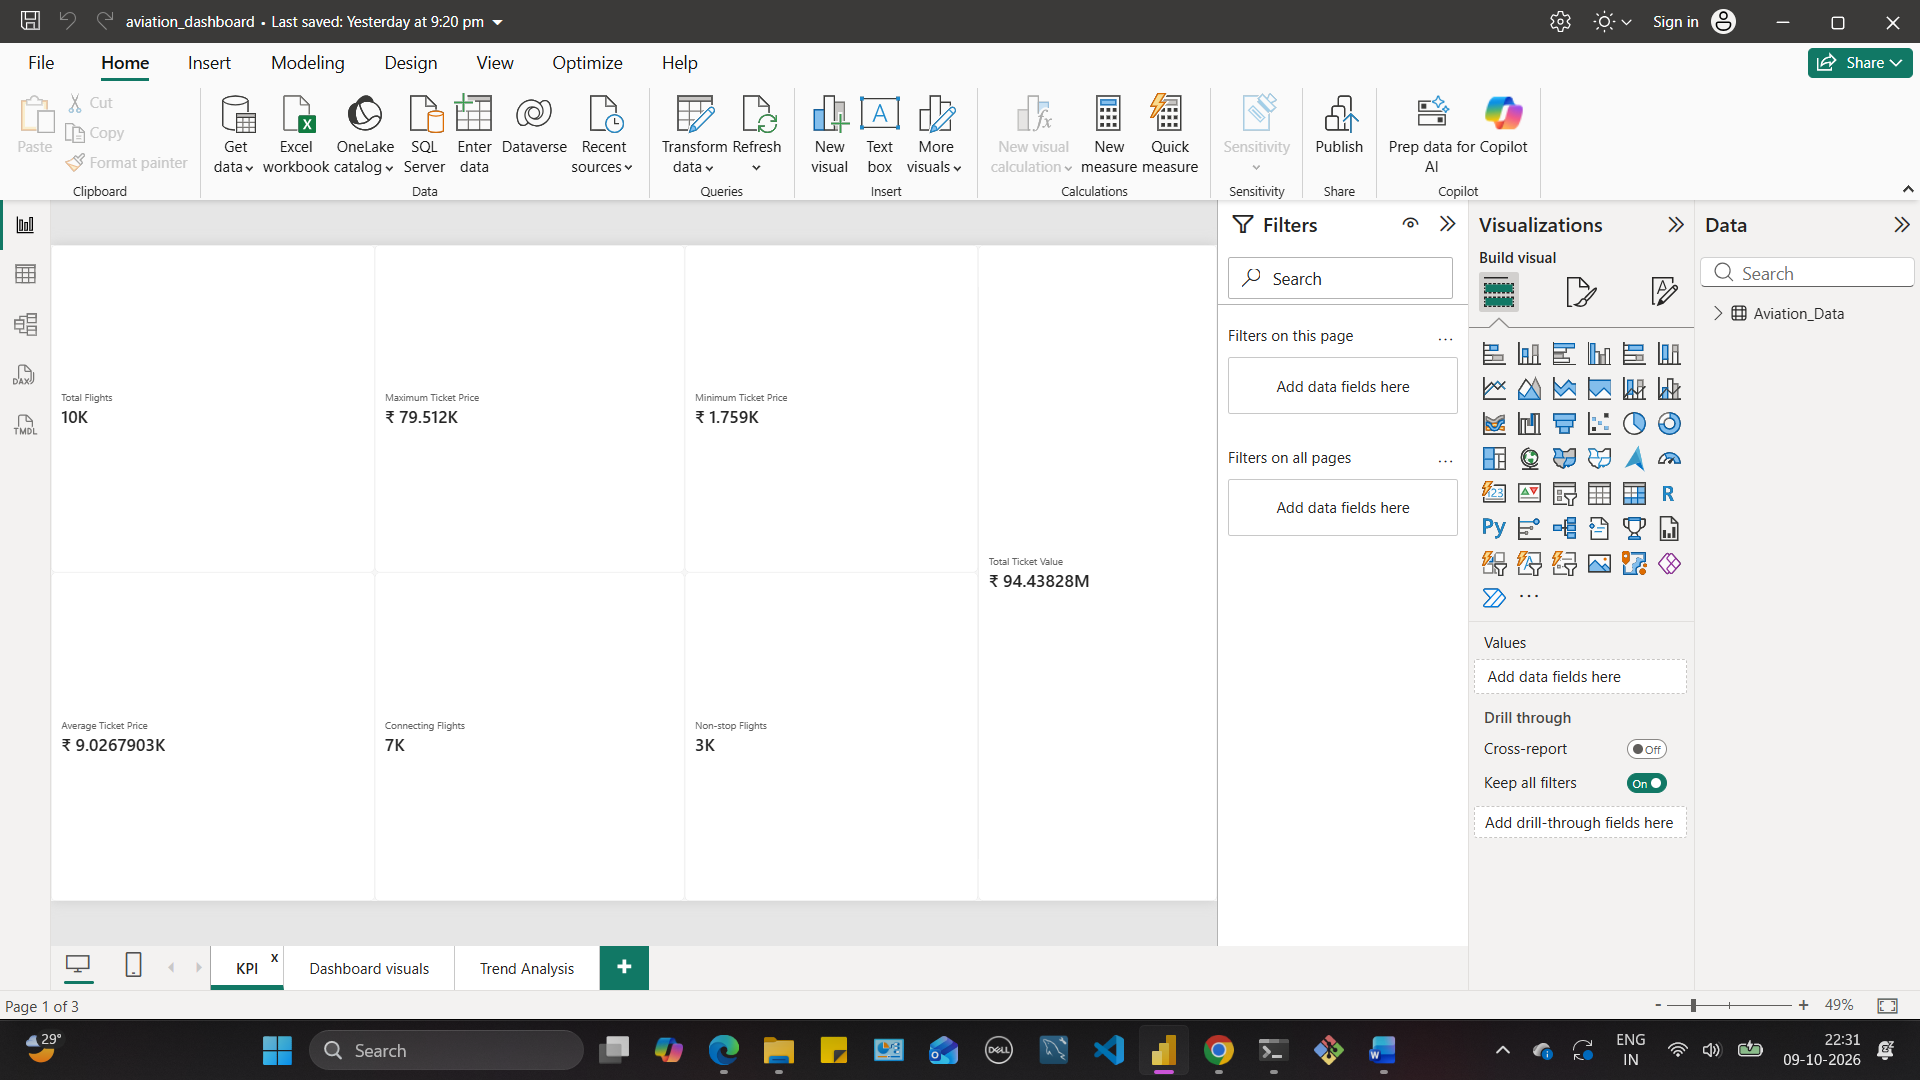

What the dashboard file says about the page in this screenshot:
{"tool":"powerbi","page":{"name":"KPI","canvas":[1920,1080],"ordinal":0},"visuals":[{"type":"cardVisual","fields":{"Data":["Aviation_Data.Total Flights"]},"box":[0,0,533.1,539.3],"z":0},{"type":"cardVisual","fields":{"Data":["Aviation_Data.Average Ticket Price"]},"box":[0,539.3,533.1,541.3],"z":1},{"type":"cardVisual","fields":{"Data":["Aviation_Data.Maximum Ticket Price"]},"box":[533.1,0,510.5,539.3],"z":2},{"type":"cardVisual","fields":{"Data":["Aviation_Data.Connecting Flights"]},"box":[533.1,539.3,510.5,541.3],"z":3},{"type":"cardVisual","fields":{"Data":["Aviation_Data.Minimum Ticket Price"]},"box":[1043.6,0,483.7,539.3],"z":4},{"type":"cardVisual","fields":{"Data":["Aviation_Data.Non-stop Flights"]},"box":[1043.6,539.3,483.7,541.3],"z":5},{"type":"cardVisual","fields":{"Data":["Aviation_Data.Total Ticket Value"]},"box":[1527.3,0,393.1,1080.6],"z":6}]}

Visuals, with their boxes on the page's 1920x1080 design canvas (x1, y1, x2, y2). These are canvas units, not pixel positions in the 1920x1080 screenshot, which may show the page scaled, cropped or inside an application window:
cardVisual - Aviation_Data.Total Flights: box=[0, 0, 533, 539]
cardVisual - Aviation_Data.Average Ticket Price: box=[0, 539, 533, 1081]
cardVisual - Aviation_Data.Maximum Ticket Price: box=[533, 0, 1044, 539]
cardVisual - Aviation_Data.Connecting Flights: box=[533, 539, 1044, 1081]
cardVisual - Aviation_Data.Minimum Ticket Price: box=[1044, 0, 1527, 539]
cardVisual - Aviation_Data.Non-stop Flights: box=[1044, 539, 1527, 1081]
cardVisual - Aviation_Data.Total Ticket Value: box=[1527, 0, 1920, 1081]
